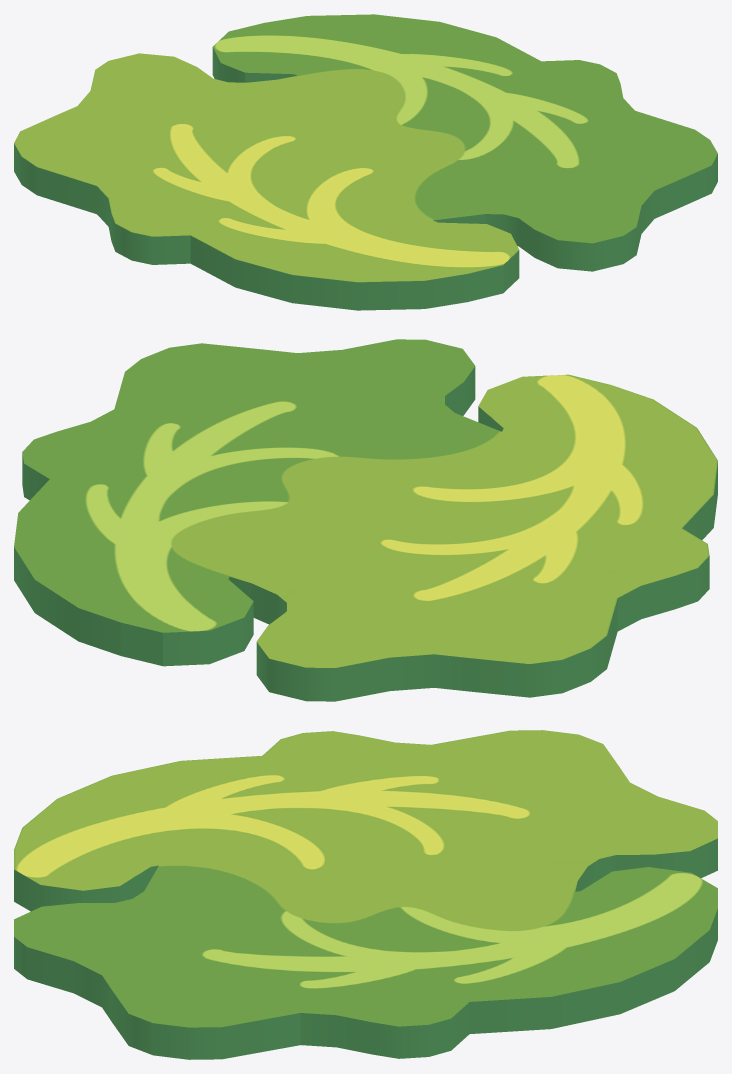
File: salad.glb
3 views of the same model, one above another, from view 1: azimuth 30°, elevation 25°; view 2: azimuth 150°, elevation 25°; view 3: azimuth 270°, elevation 25° (orthographic). The views are drawn at different scales.
Visible parts, largest first — view 1: Lettuce_Slice; view 2: Lettuce_Slice; view 3: Lettuce_Slice.
Boxes of the visible parts, x1,y1,x2,y2 form: Lettuce_Slice: (14, 14, 717, 310); Lettuce_Slice: (14, 339, 717, 701); Lettuce_Slice: (14, 730, 717, 1059).
Size of the model in its own units: 0.2 by 0.0101 by 0.2.
Materials: 1 (1 with a texture image).
